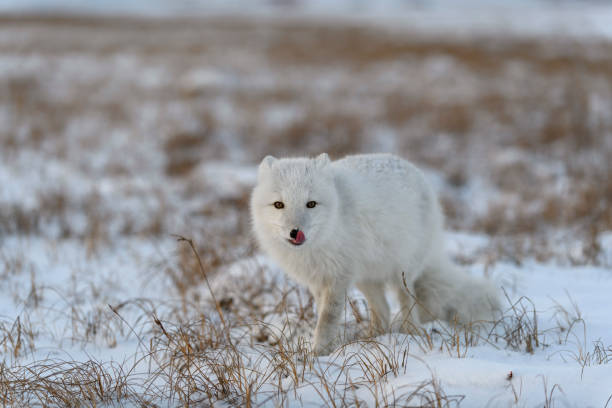arcticfox: (264, 178, 335, 265)
